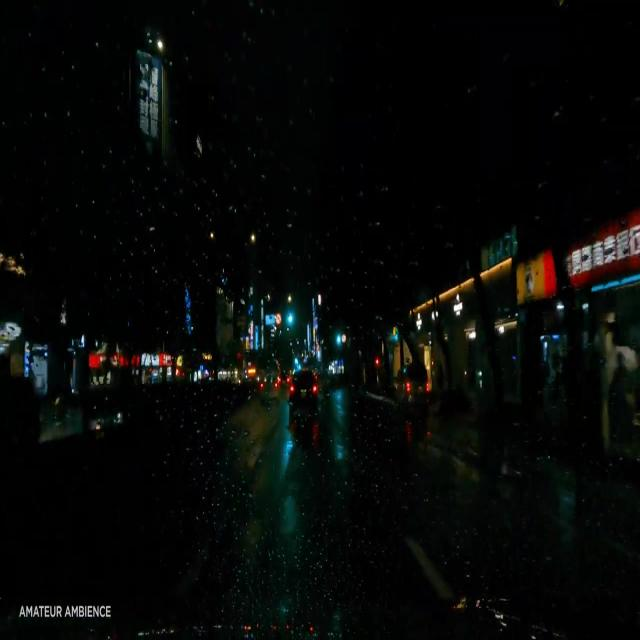Car: (390, 364, 429, 408), (285, 367, 316, 410)
